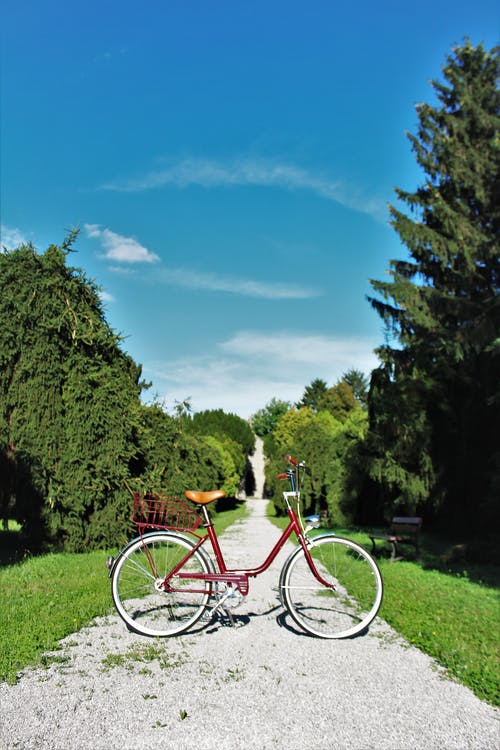bicycle: (100, 446, 388, 645)
